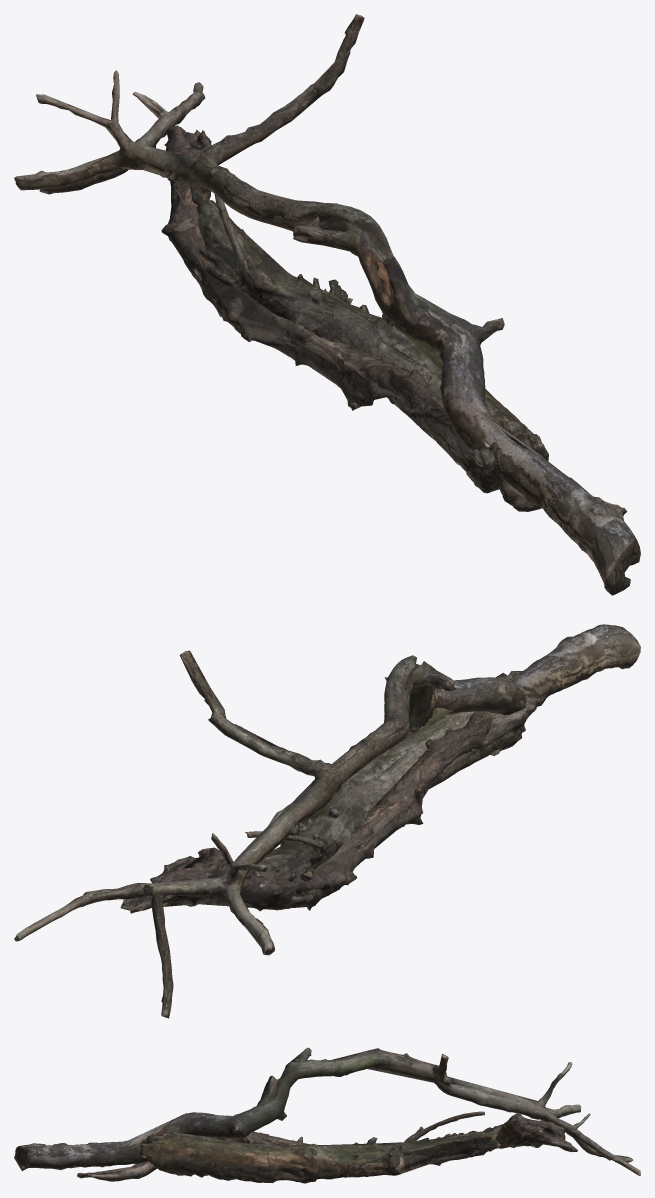
Rendered from dry_branches_medium_01.glb.
3 renders of one model, top to bottom at view 1: azimuth 30°, elevation 25°; view 2: azimuth 150°, elevation 25°; view 3: azimuth 270°, elevation 25°, orthographic. The views are drawn at different scales.
Visible parts, largest first — view 1: dry_branches_medium_01_a, dry_branches_medium_01_c, dry_branches_medium_01_a_lo, dry_branches_medium_01_b, dry_branches_medium_01_c_lo, dry_branches_medium_01_b_lo; view 2: dry_branches_medium_01_a, dry_branches_medium_01_b, dry_branches_medium_01_c, dry_branches_medium_01_a_lo, dry_branches_medium_01_b_lo, dry_branches_medium_01_c_lo; view 3: dry_branches_medium_01_a, dry_branches_medium_01_c, dry_branches_medium_01_a_lo, dry_branches_medium_01_b, dry_branches_medium_01_c_lo, dry_branches_medium_01_b_lo.
Boxes of the visible parts, x1,y1,x2,y2 form: dry_branches_medium_01_a: (14,14,640,595); dry_branches_medium_01_c: (189,186,548,493); dry_branches_medium_01_a_lo: (45,16,640,593); dry_branches_medium_01_b: (161,125,627,520); dry_branches_medium_01_c_lo: (197,200,529,483); dry_branches_medium_01_b_lo: (164,127,623,520); dry_branches_medium_01_a: (14,624,640,1018); dry_branches_medium_01_b: (120,671,525,913); dry_branches_medium_01_c: (245,673,539,881); dry_branches_medium_01_a_lo: (15,625,632,1013); dry_branches_medium_01_b_lo: (122,671,522,909); dry_branches_medium_01_c_lo: (247,679,532,880); dry_branches_medium_01_a: (14,1047,640,1175); dry_branches_medium_01_c: (140,1111,503,1183); dry_branches_medium_01_a_lo: (15,1049,640,1175); dry_branches_medium_01_b: (77,1114,577,1181); dry_branches_medium_01_c_lo: (142,1113,501,1178); dry_branches_medium_01_b_lo: (77,1113,577,1178).
Bounding box in the file's own units: 0.3231 × 0.341 × 1.3.
1 material, 1 textured.
